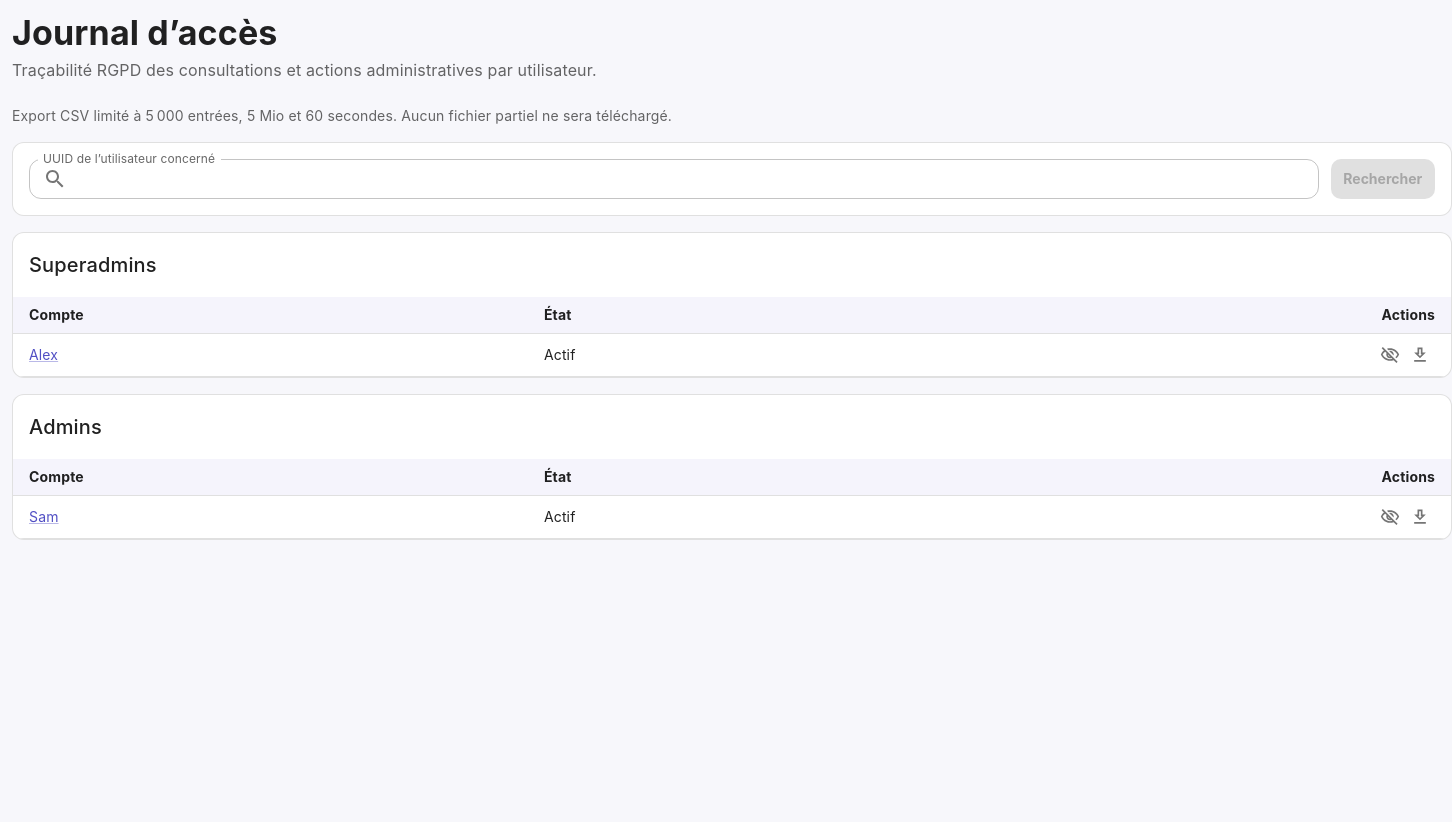
it: access journal administrator directory › lists admin and superadmin accounts while keeping the UUID search above them
Expected: the link "Alex" is shown, x1=29 y1=346 x2=58 y2=363
Expected: the link "Sam" is shown, x1=29 y1=508 x2=59 y2=525
Type "20000000-0000-4000-8000-000000000001" into the field labelled "UUID de l’utilisateur concerné".
click(697, 179); type("20000000-0000-4000-8000-000000000001")  # box x1=75 y1=159 x2=1318 y2=199
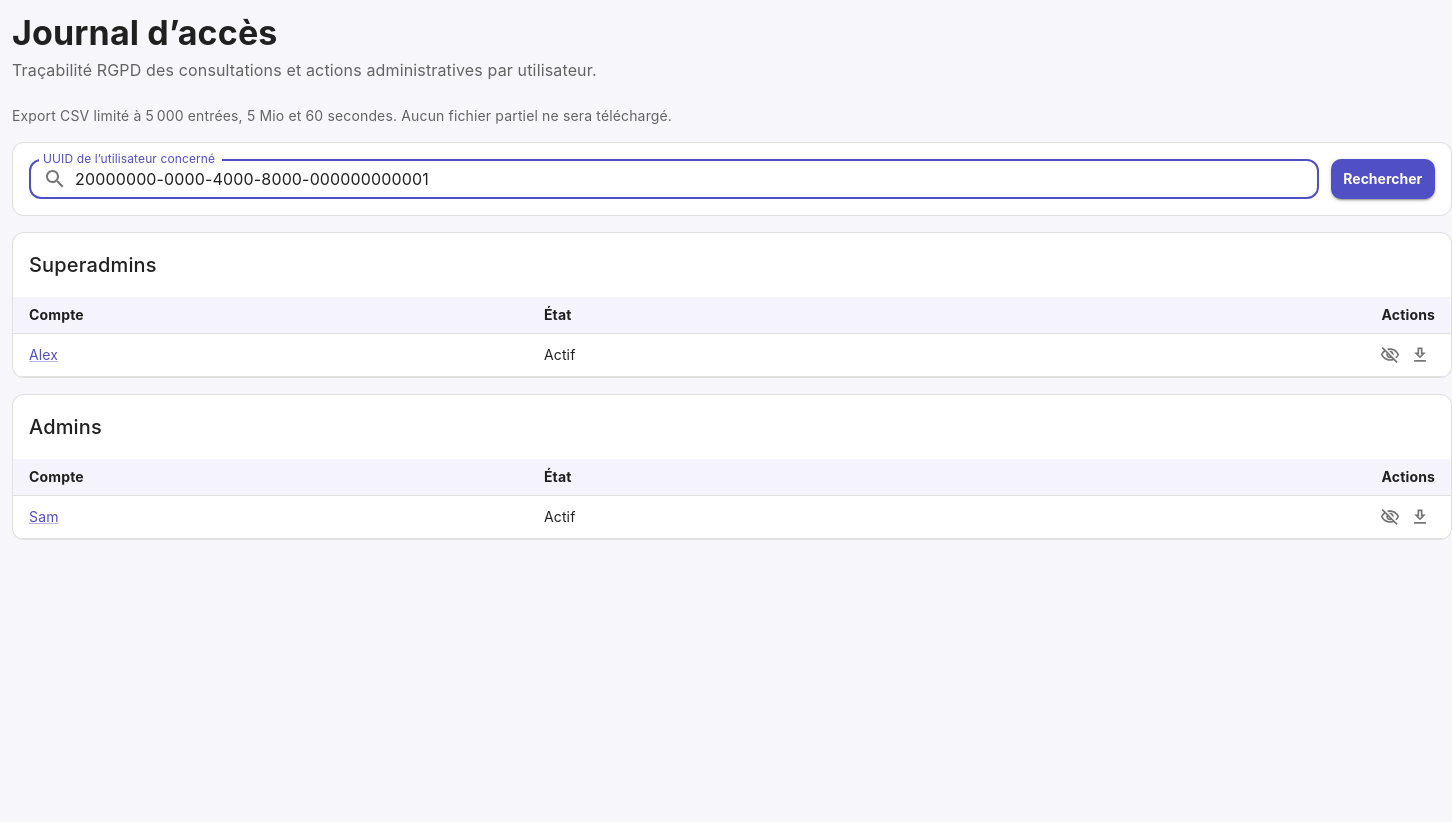
Click the button "Rechercher".
click(1383, 179)  # box x1=1330 y1=159 x2=1435 y2=199
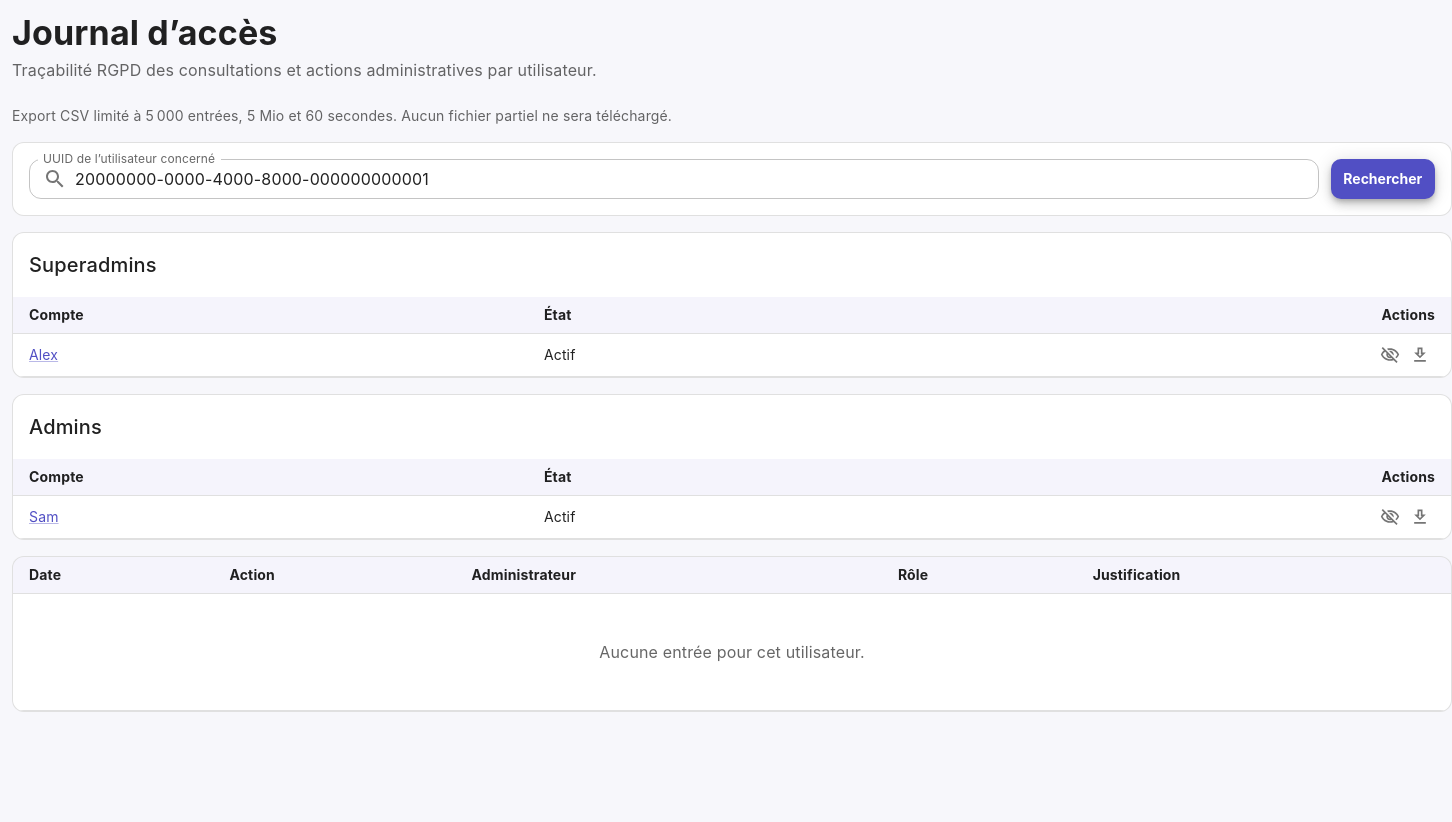
Click the button named "Voir le journal de Alex".
click(1390, 355)  # box x1=1375 y1=340 x2=1405 y2=370
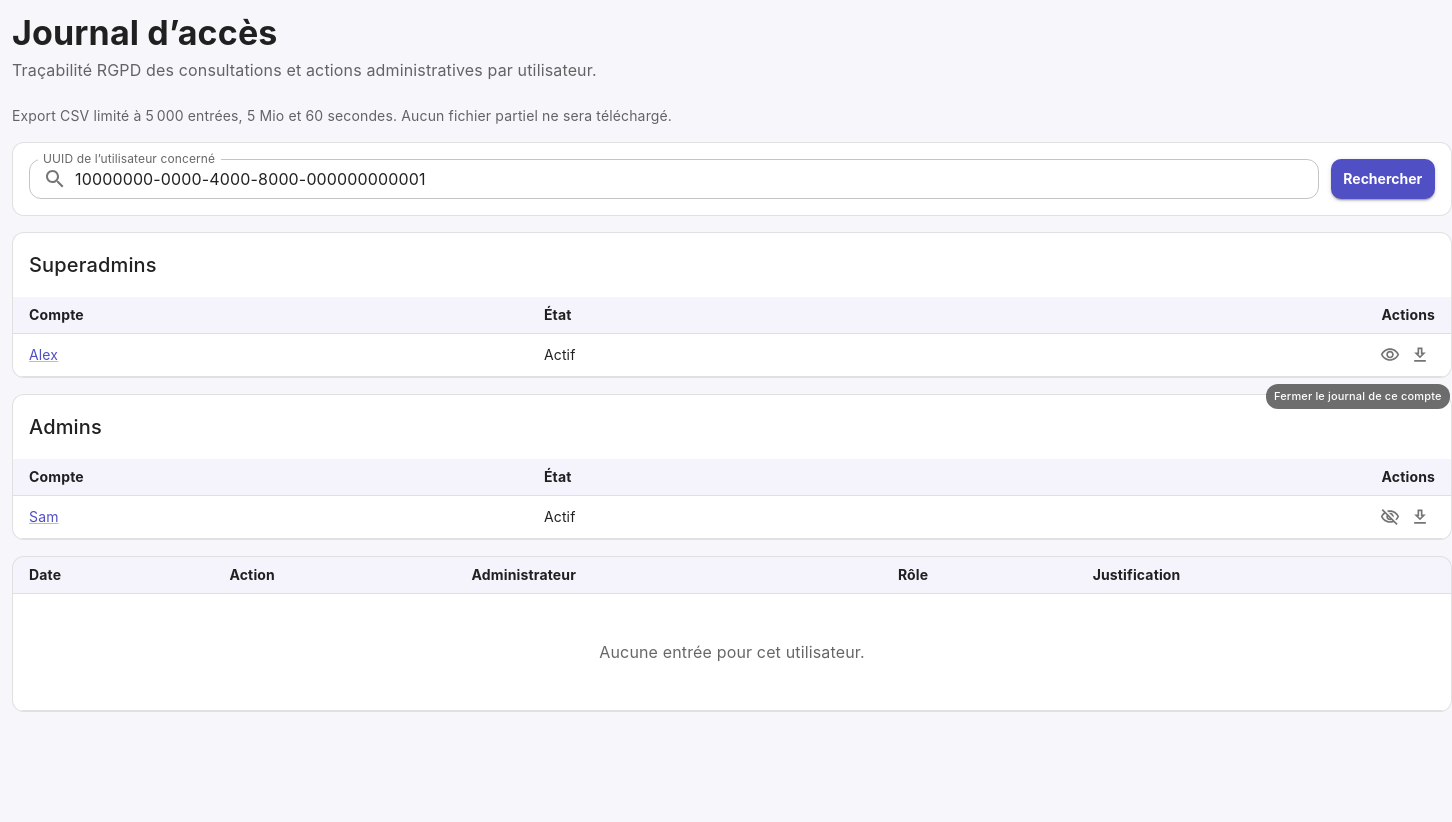
Now the text "Aucune entrée pour cet utilisateur." is shown, box x1=599 y1=642 x2=865 y2=662
Now the field labelled "UUID de l’utilisateur concerné" holds "10000000-0000-4000-8000-000000000001", box x1=75 y1=159 x2=1318 y2=199
Now the icon with test id "VisibilityOutlinedIcon" is shown, box x1=1380 y1=345 x2=1400 y2=365
Click the button named "Fermer le journal de Alex".
click(1390, 355)  # box x1=1375 y1=340 x2=1405 y2=370
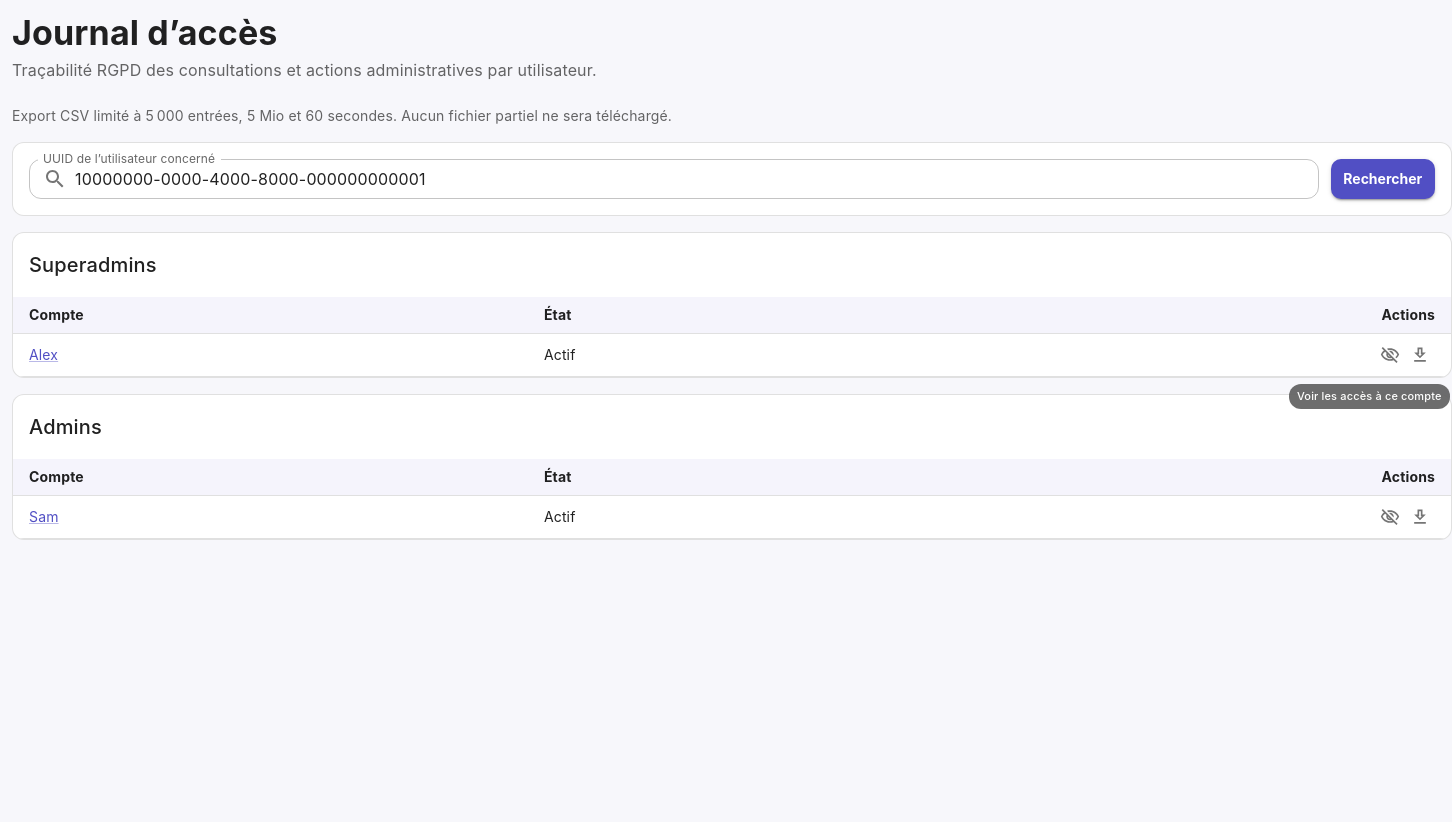
Now the 1st icon with test id "VisibilityOffOutlinedIcon" is shown, box x1=1380 y1=345 x2=1400 y2=365
Now the text "Aucune entrée pour cet utilisateur." is gone
